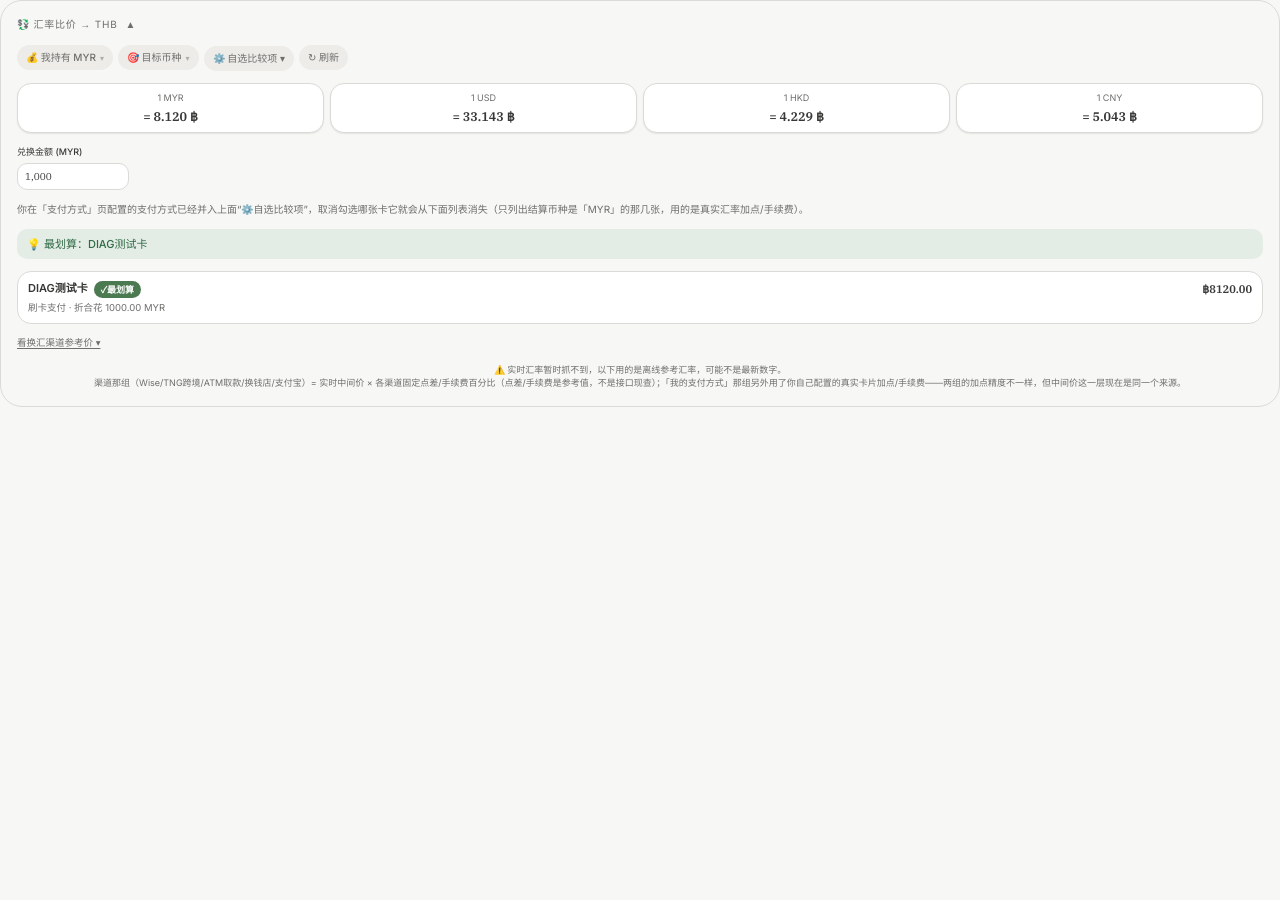
FxCompareCard — 第六十八轮任务 K：可比支付方式 0 行时渠道参考价自动展开 › 对照组：有可比支付方式（行数 > 0）时维持默认收起，需要点一下才展开
The width and height of the screenshot is (1280, 900).
Expected: the text "DIAG测试卡" is shown, [28,281,88,295]
Click the button "看换汇渠道参考价 ▾" at (59,343), box [17,336,100,351]
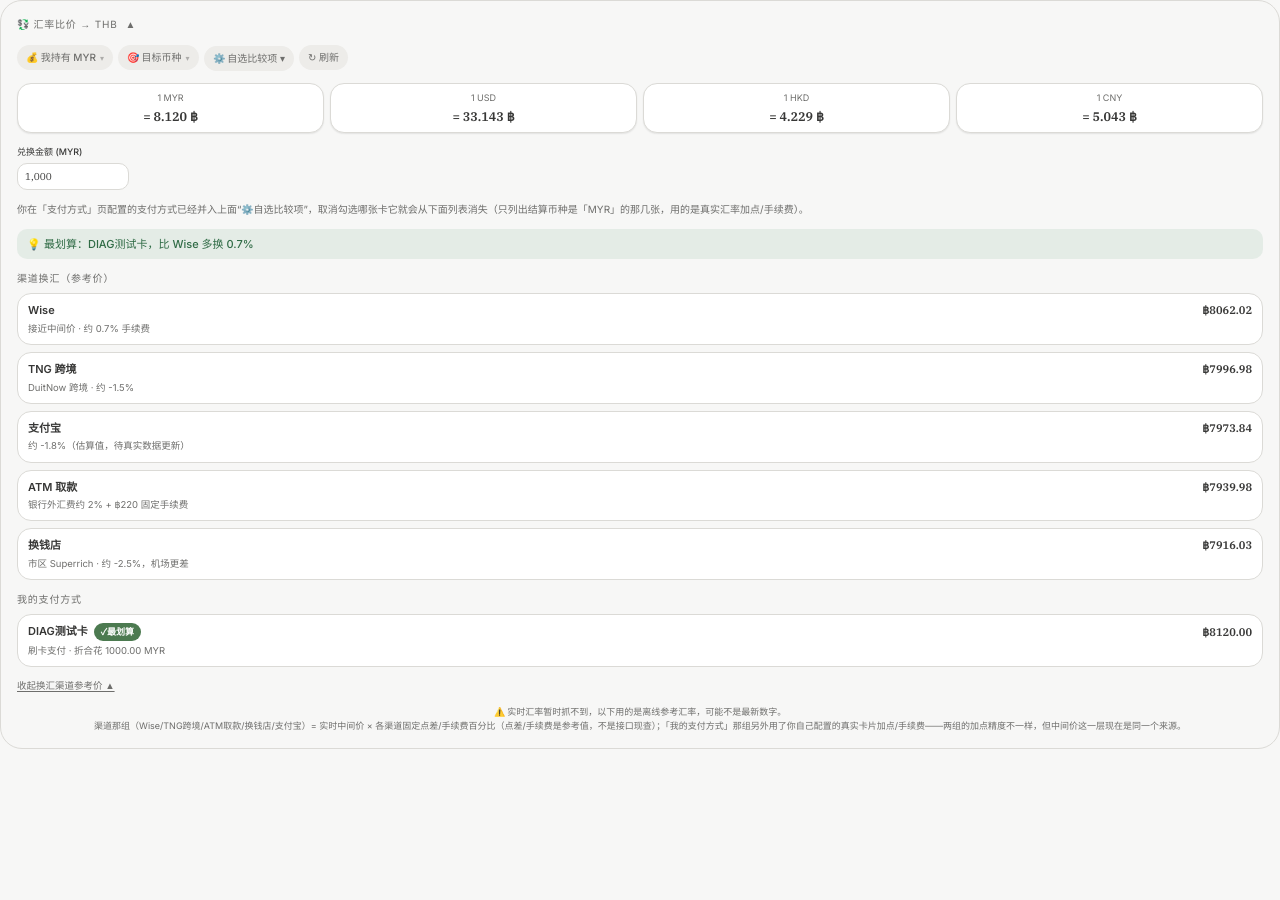
Result: the text "Wise" is shown at [28,302,55,319]
Result: the button "收起换汇渠道参考价 ▲" is shown at [17,679,115,693]
